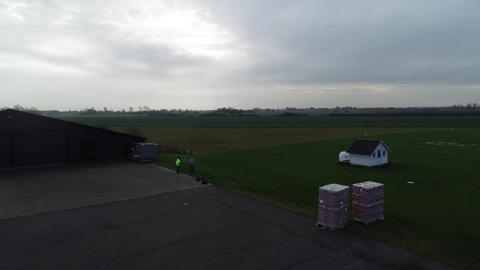RockwoolPallet: (352, 177, 384, 222)
